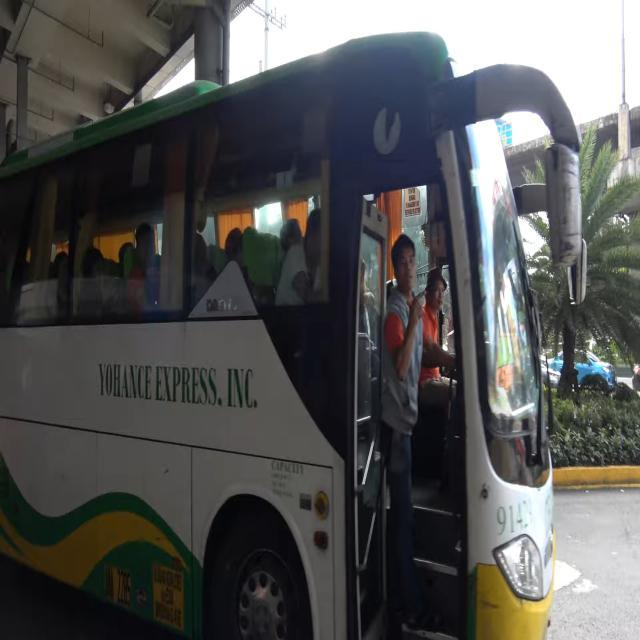bus: (0, 27, 584, 639)
